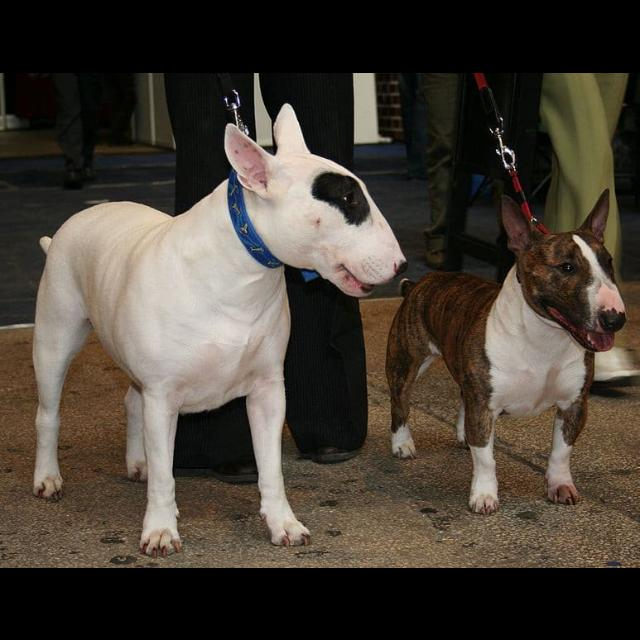bullterrier: (31, 102, 409, 558), (385, 188, 639, 516)
